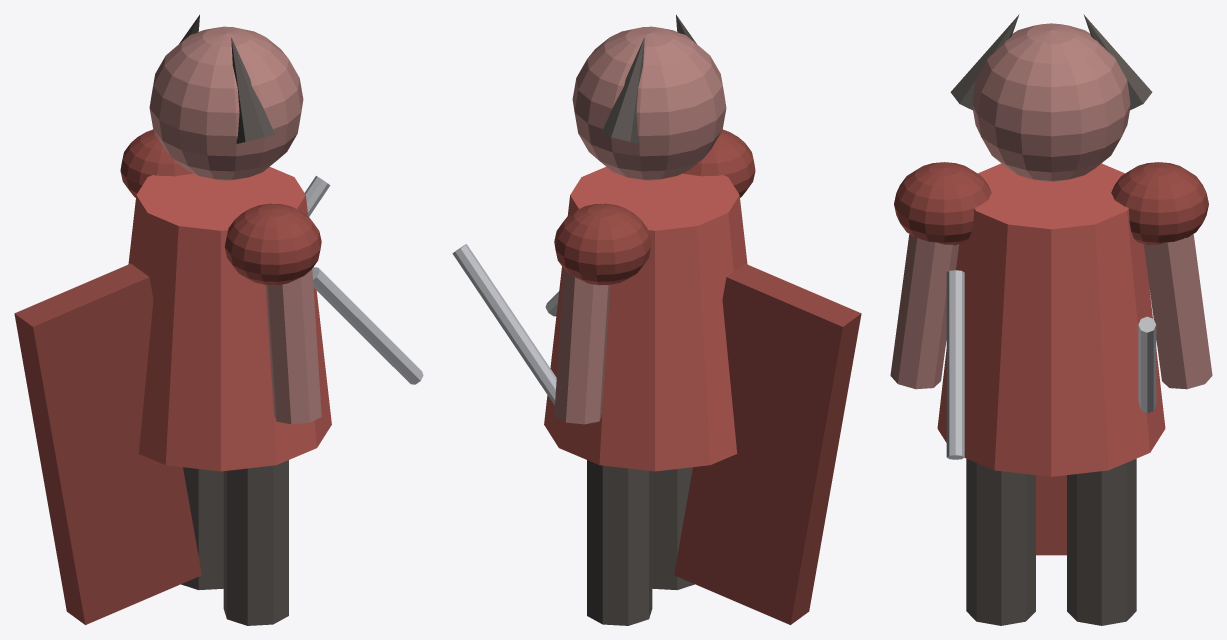
The model's file is hero_horda_1.glb.
3 views of the same model, side by side, from view 1: azimuth 30°, elevation 25°; view 2: azimuth 150°, elevation 25°; view 3: azimuth 270°, elevation 25° (orthographic). The views are drawn at different scales.
Parts seen in each view (by area): view 1: figurka; view 2: figurka; view 3: figurka.
Boxes of the visible parts, x1,y1,x2,y2 form: figurka: [14, 14, 423, 625]; figurka: [452, 14, 861, 625]; figurka: [890, 14, 1212, 625].
Size of the model in its own units: 0.6544 by 1.02 by 0.5044.
